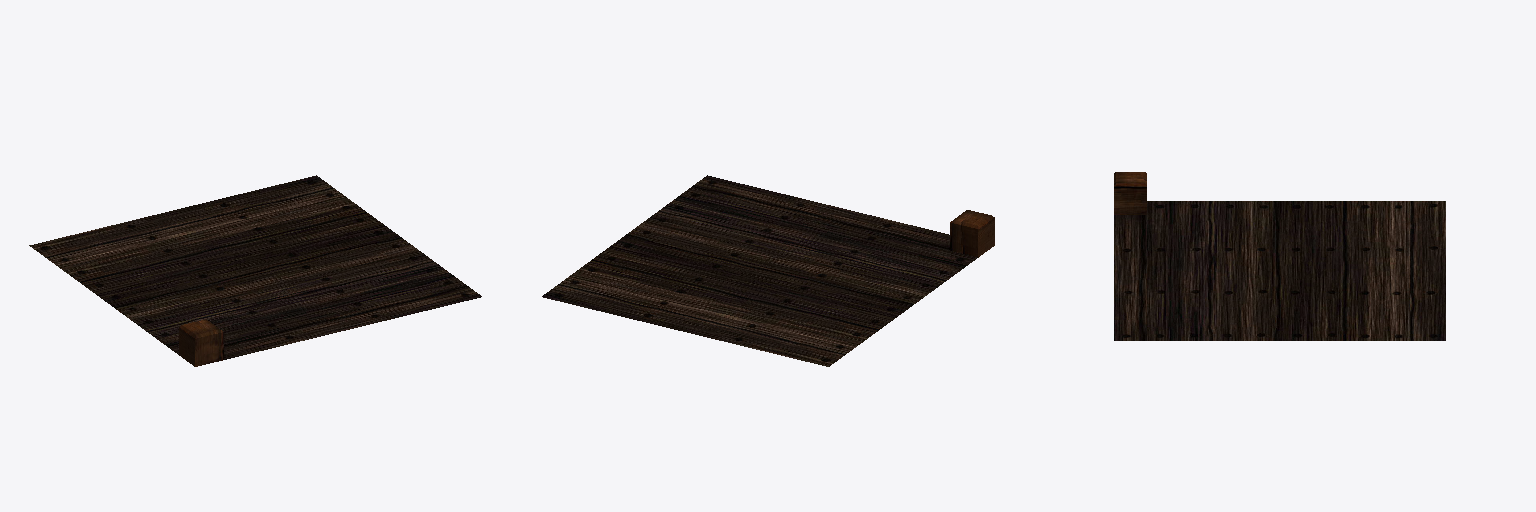
The picture shows the model from 3 angles: view 1: azimuth 30°, elevation 25°; view 2: azimuth 150°, elevation 25°; view 3: azimuth 270°, elevation 25°; orthographic projection.
Parts seen in each view (by area): view 1: Roof001_Flat011; view 2: Roof001_Flat011; view 3: Roof001_Flat011.
Part boxes in pixels (bbox=[...]): Roof001_Flat011: bbox=[29, 175, 481, 366]; Roof001_Flat011: bbox=[542, 175, 994, 366]; Roof001_Flat011: bbox=[1114, 172, 1445, 340].
Bounding box in the file's own units: 128 × 13 × 128.
Materials: 1 (1 with a texture image).